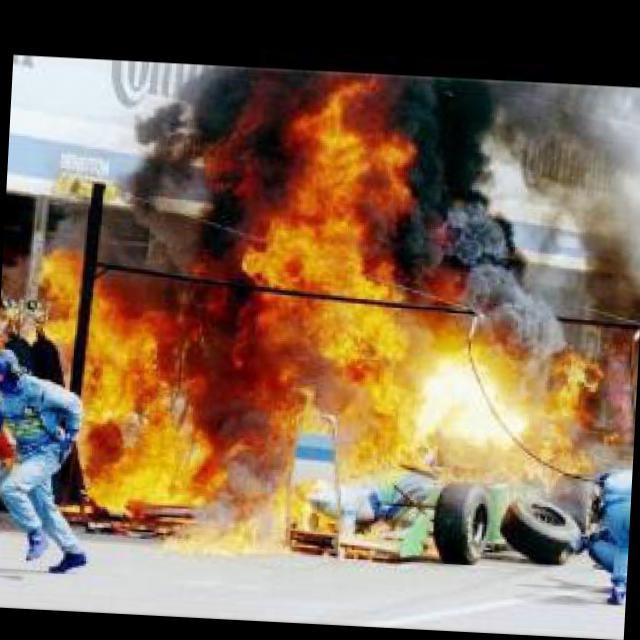fire: (226, 83, 628, 501), (9, 234, 236, 544)
smoke: (86, 57, 277, 424), (554, 120, 640, 433)
